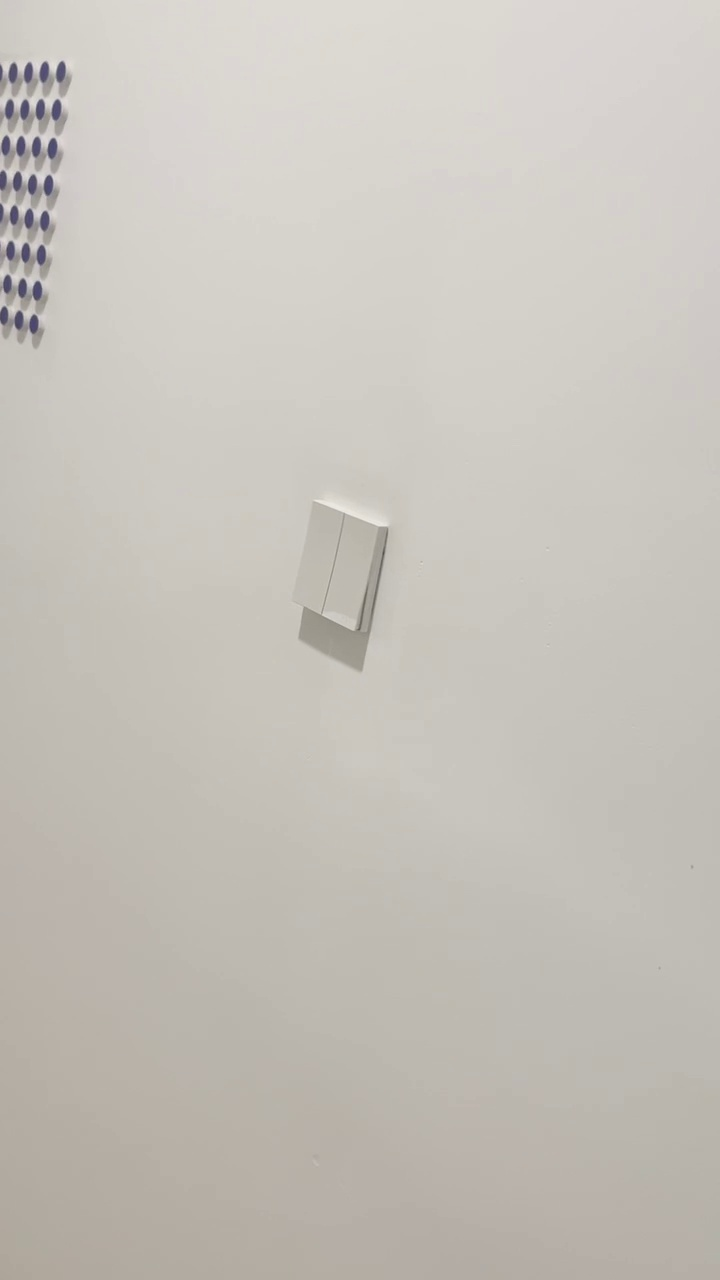button: (290, 495, 388, 639)
